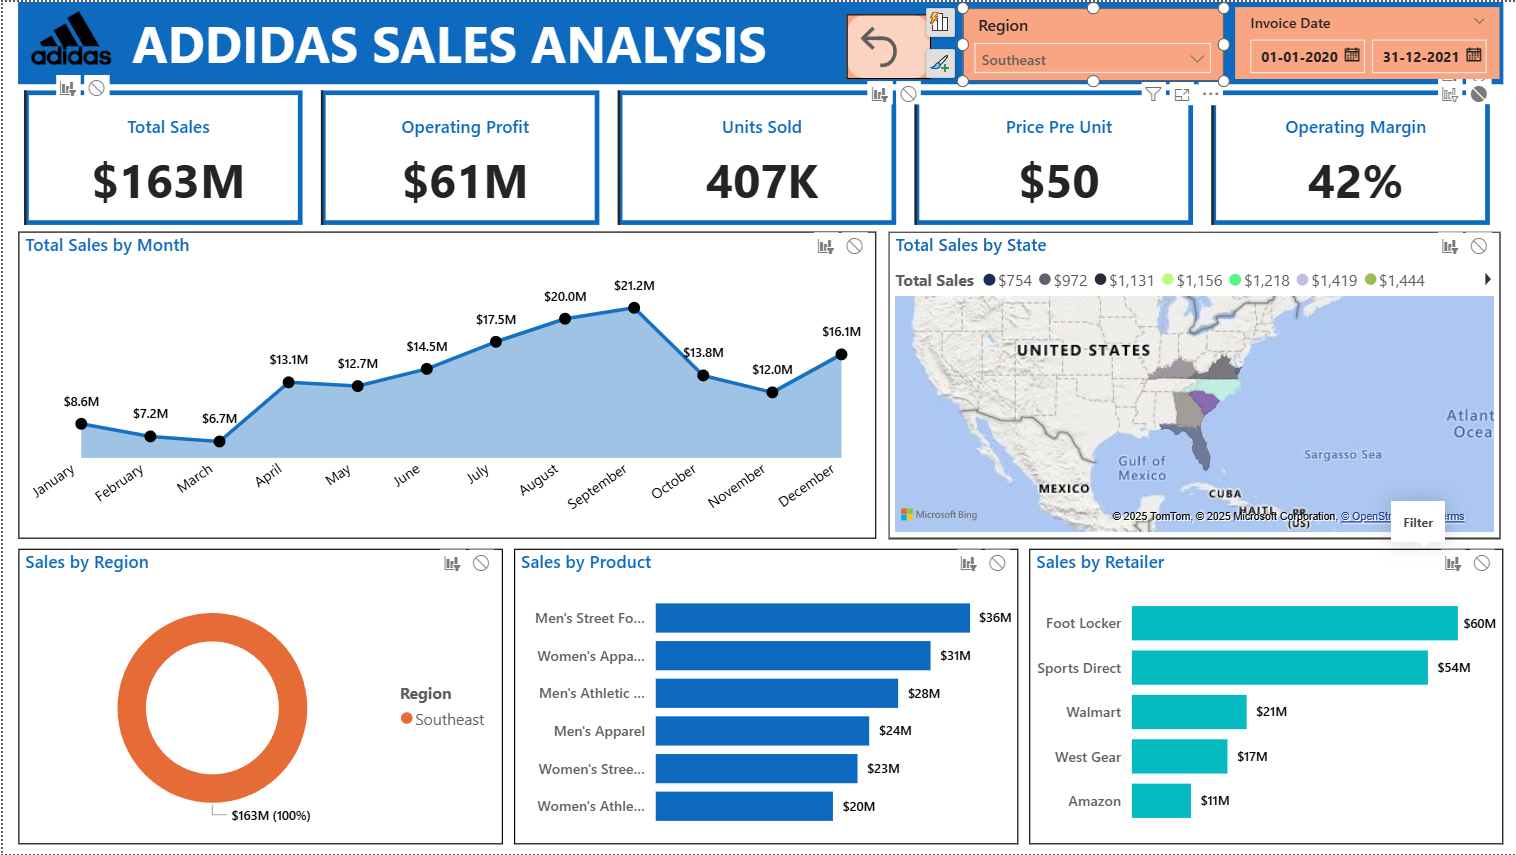

The dashboard page shown, as its layout file describes it:
{"tool":"powerbi","page":{"name":"Page 1","canvas":[1280,720],"ordinal":0},"visuals":[{"type":"shape","box":[13,0,1255.6,69.5],"z":0},{"type":"textbox","box":[104.6,0.9,628.4,68.8],"z":1000},{"type":"cardVisual","fields":{"Data":["Sum(Data Sales Adidas.Total Sales)","Sum(Data Sales Adidas.Operating Profit)","Sum(Data Sales Adidas.Units Sold)","Avg(Data Sales Adidas.Price per Unit)","Avg(Data Sales Adidas.Operating Margin)"]},"box":[13,69.5,1253.4,124.9],"z":2000},{"type":"areaChart","title":"Total Sales by Month","fields":{"Category":["Data Sales Adidas.Invoice Date.Variation.Date Hierarchy.Month"],"Y":["Sum(Data Sales Adidas.Total Sales)"]},"box":[13,194.4,725.5,259.6],"z":3000},{"type":"filledMap","title":"Total Sales by State","fields":{"Category":["Data Sales Adidas.State"],"Series":["Data Sales Adidas.Total Sales"]},"box":[748.3,194.4,518.1,259.6],"z":4000},{"type":"donutChart","title":"Sales by Region","fields":{"Category":["Data Sales Adidas.Region"],"Y":["Sum(Data Sales Adidas.Total Sales)"]},"box":[13,462.7,409.5,249.8],"z":5000},{"type":"barChart","title":"Sales by Product","fields":{"Category":["Data Sales Adidas.Product"],"Y":["Sum(Data Sales Adidas.Total Sales)"]},"box":[432.3,462.7,426.8,249.8],"z":6000},{"type":"barChart","title":"Sales by Retailer","fields":{"Y":["Sum(Data Sales Adidas.Total Sales)"],"Category":["Data Sales Adidas.Retailer"]},"box":[867.8,462.7,400.8,249.8],"z":7000},{"type":"slicer","fields":{"Values":["Data Sales Adidas.Region"]},"box":[811.9,5.5,220.2,60.5],"z":8000},{"type":"slicer","fields":{"Values":["Data Sales Adidas.Invoice Date"]},"box":[1042.2,4.6,223.8,60.5],"z":8001},{"type":"image","box":[19.3,0,78,60.5],"z":8002},{"type":"actionButton","box":[712.8,10.1,71.6,55],"z":8003}]}

Visuals, with their boxes on the page's 1280x720 design canvas (x1, y1, x2, y2). These are canvas units, not pixel positions in the 1516x855 screenshot, which may show the page scaled, cropped or inside an application window:
shape: bbox=[13, 0, 1269, 70]
textbox: bbox=[105, 1, 733, 70]
cardVisual - Sum(Data Sales Adidas.Total Sales) x Sum(Data Sales Adidas.Operating Profit): bbox=[13, 70, 1266, 194]
"Total Sales by Month" areaChart: bbox=[13, 194, 738, 454]
"Total Sales by State" filledMap: bbox=[748, 194, 1266, 454]
"Sales by Region" donutChart: bbox=[13, 463, 422, 712]
"Sales by Product" barChart: bbox=[432, 463, 859, 712]
"Sales by Retailer" barChart: bbox=[868, 463, 1269, 712]
slicer - Data Sales Adidas.Region: bbox=[812, 6, 1032, 66]
slicer - Data Sales Adidas.Invoice Date: bbox=[1042, 5, 1266, 65]
image: bbox=[19, 0, 97, 60]
actionButton: bbox=[713, 10, 784, 65]
